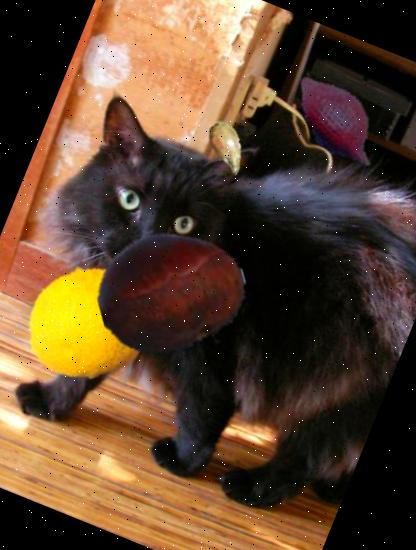Cactus: (190, 112, 263, 184)
Cantaloupe: (8, 242, 166, 401)
Chestnut: (74, 194, 268, 388)
Salak: (265, 49, 410, 193)
